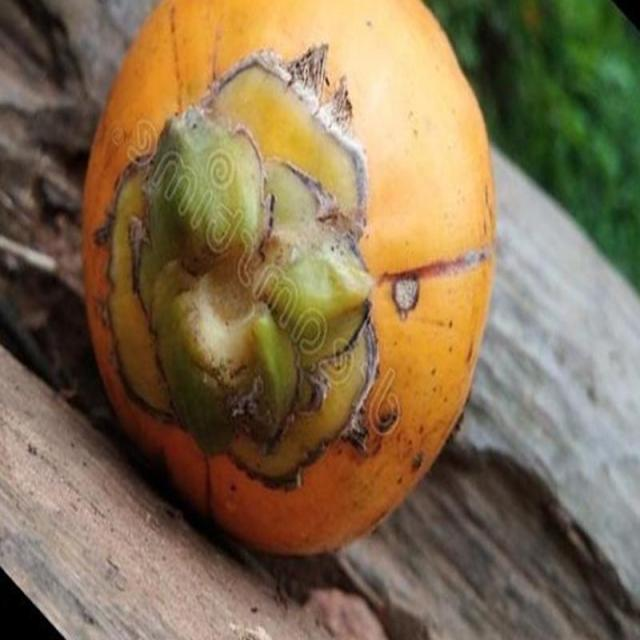good: (81, 0, 498, 561)
